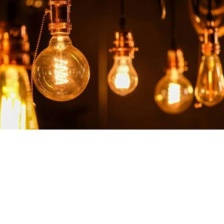light_bulb: (29, 16, 96, 103), (0, 56, 44, 158), (149, 61, 197, 116), (192, 39, 224, 109), (104, 45, 142, 98)
